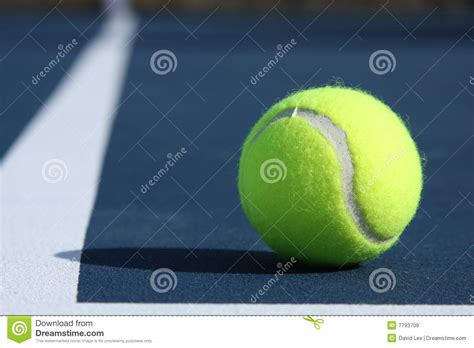tennis_ball: (236, 85, 424, 267)
